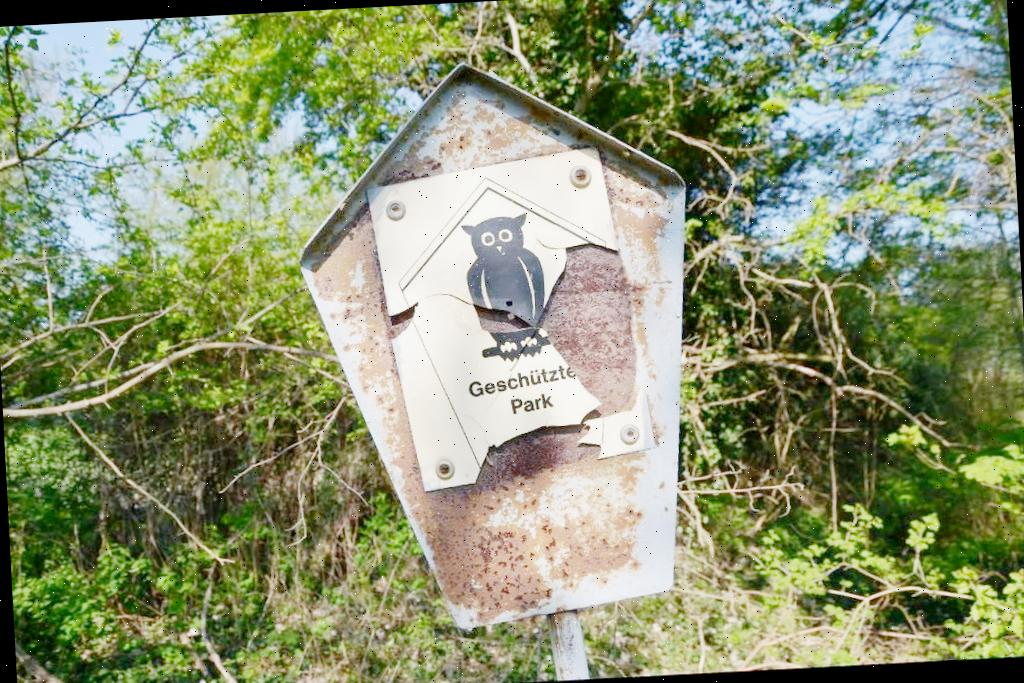Owl: (460, 212, 550, 363)
